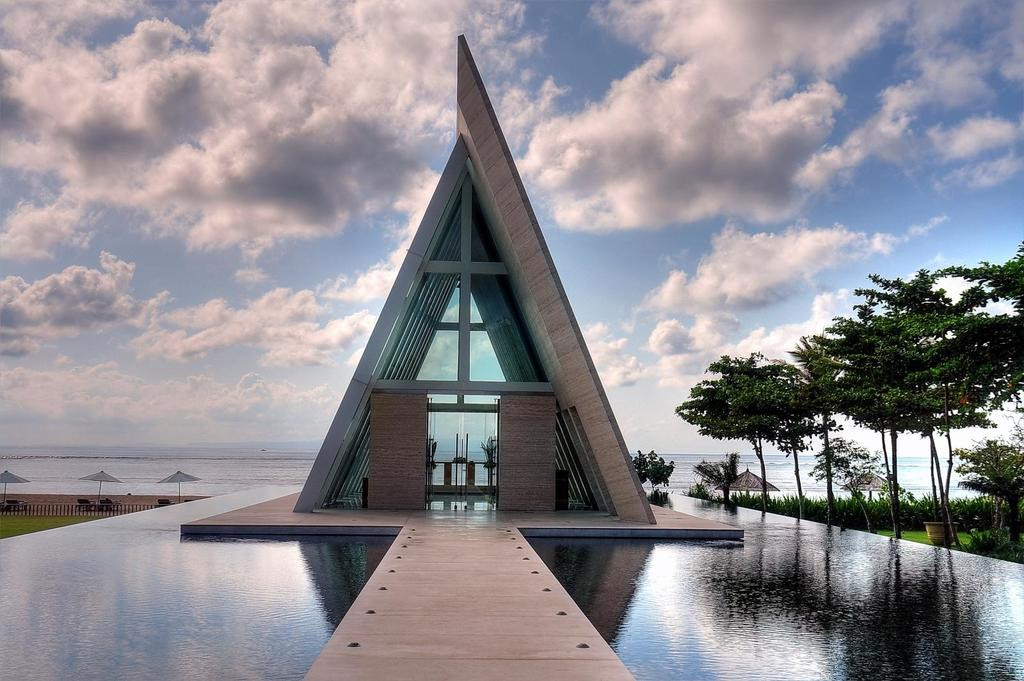Tree: (711, 243, 1003, 531)
